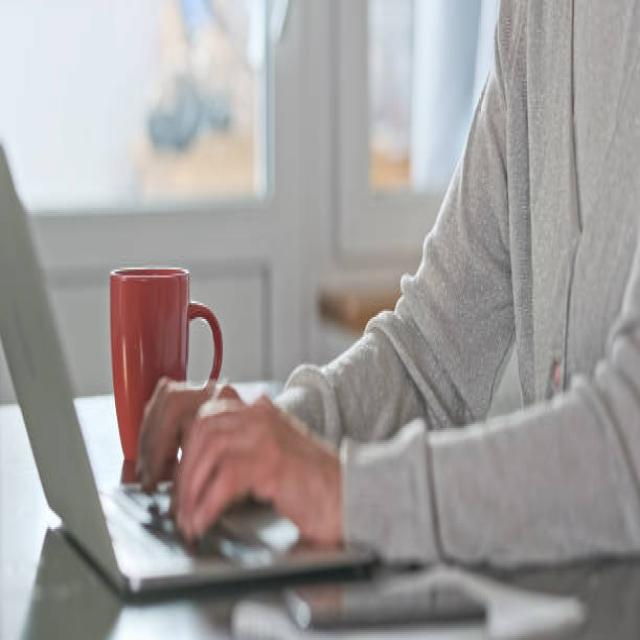Red_cup: (110, 268, 222, 459)
